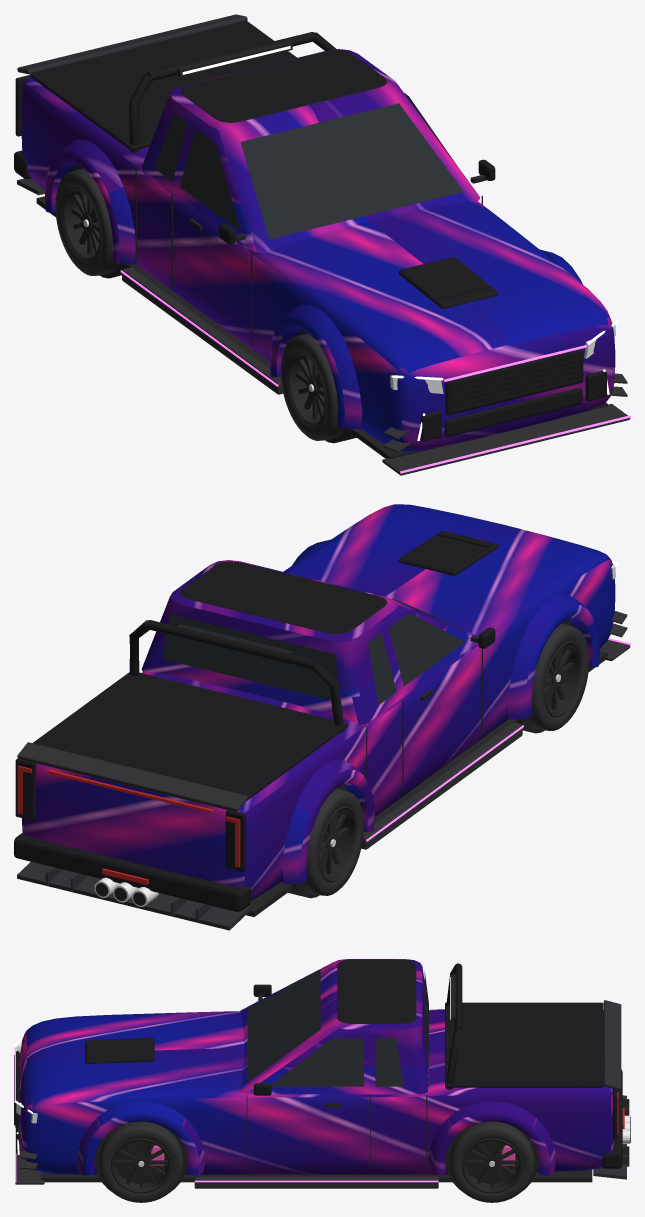
Rendered from naga_x.glb.
The picture shows the model from 3 angles, top to bottom: view 1: azimuth 30°, elevation 25°; view 2: azimuth 150°, elevation 25°; view 3: azimuth 270°, elevation 25°; orthographic projection. The views are drawn at different scales.
Visible parts, largest first — view 1: NagaBody, WheelRLTyre, WheelFLTyre, WheelFLRims, WheelRLRims; view 2: NagaBody, WheelRLTyre, WheelFLTyre, WheelRLRims, WheelFLRims; view 3: NagaBody, WheelFRTyre, WheelRRTyre, WheelRRRims, WheelFRRims.
Boxes of the visible parts, <box> form: NagaBody: <box>14,14,630,475</box>; WheelRLTyre: <box>55,168,119,275</box>; WheelFLTyre: <box>280,333,344,440</box>; WheelFLRims: <box>287,351,325,427</box>; WheelRLRims: <box>62,186,100,262</box>; NagaBody: <box>14,504,630,930</box>; WheelRLTyre: <box>300,788,363,895</box>; WheelFLTyre: <box>525,623,589,730</box>; WheelRLRims: <box>318,806,357,882</box>; WheelFLRims: <box>543,641,582,717</box>; NagaBody: <box>14,959,630,1192</box>; WheelFRTyre: <box>99,1121,183,1202</box>; WheelRRTyre: <box>450,1121,534,1202</box>; WheelRRRims: <box>461,1138,522,1193</box>; WheelFRRims: <box>111,1138,171,1193</box>.
Size of the model in its own units: 2.14 by 1.65 by 5.49.
15 materials, 1 textured.
